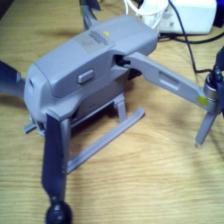drone: (0, 9, 224, 205)
